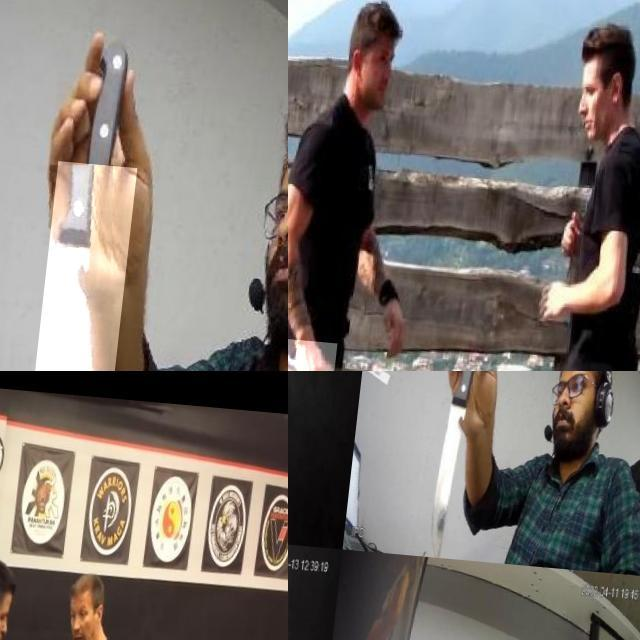-: (31, 157, 143, 371), (432, 371, 488, 550), (288, 333, 347, 371), (288, 416, 311, 469)
